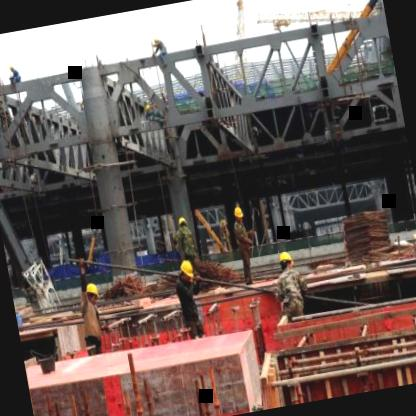helmet: (80, 276, 104, 314), (277, 247, 298, 278), (176, 254, 194, 288), (176, 213, 190, 236), (232, 204, 246, 226)
